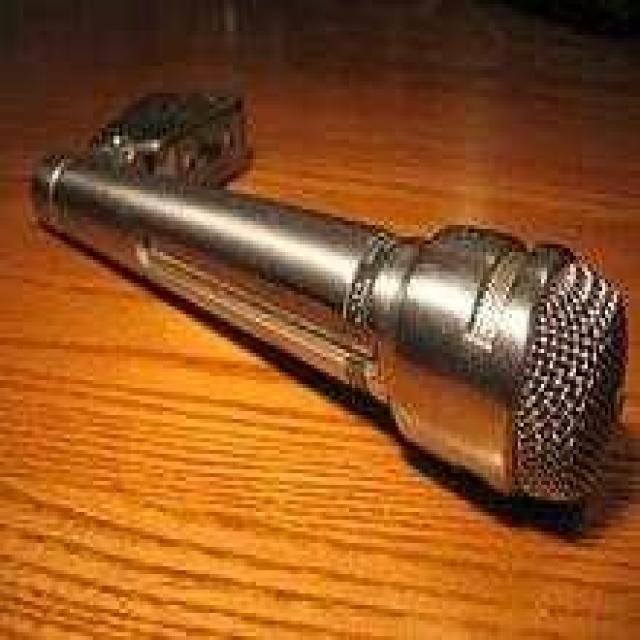microphone: (28, 95, 620, 514)
